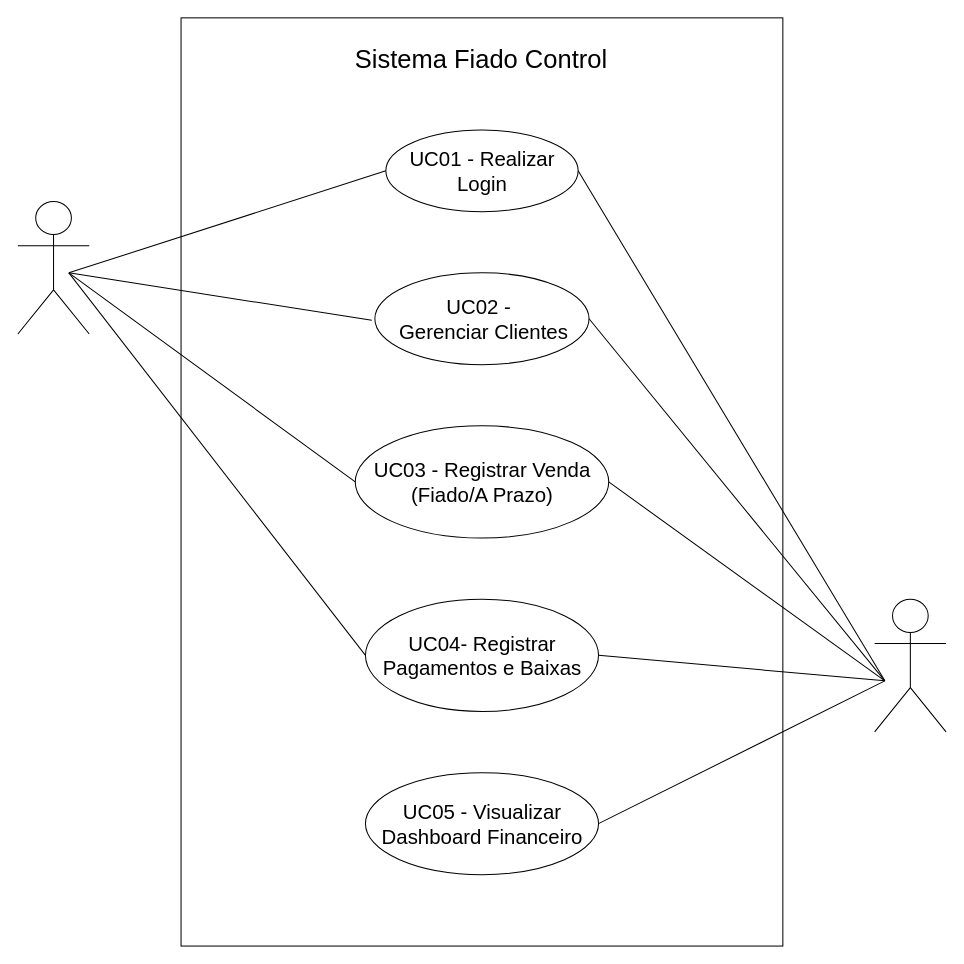
Image size: 964x964. Some labels were removed from this diagram. The shapes that lost their labels are listed below. From the top down, each one's centre as x and y in pixels, then its label:
At (x=53, y=267): "Funcionário".
At (x=910, y=665): "Gerente".
